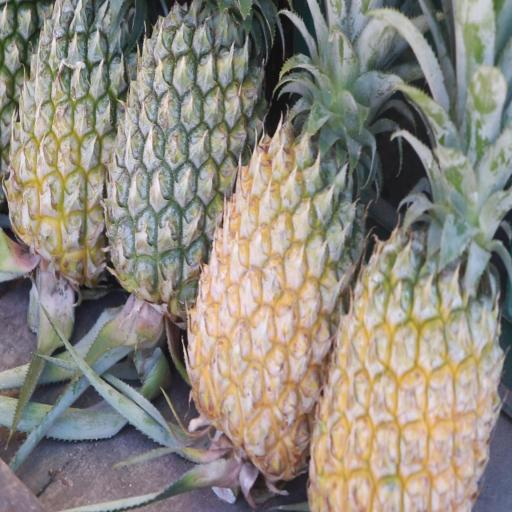------------------------------: (6, 0, 147, 297)
Pineapple - v8 v1: (182, 5, 372, 487), (305, 162, 503, 512)
